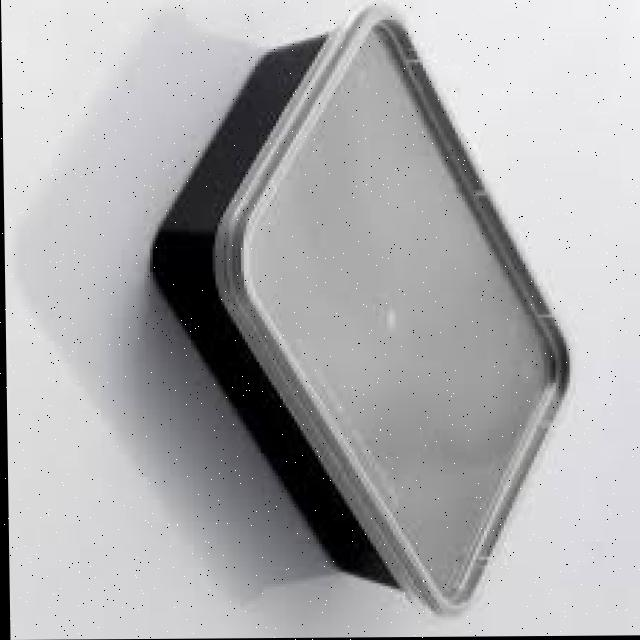disposable: (145, 2, 590, 621)
